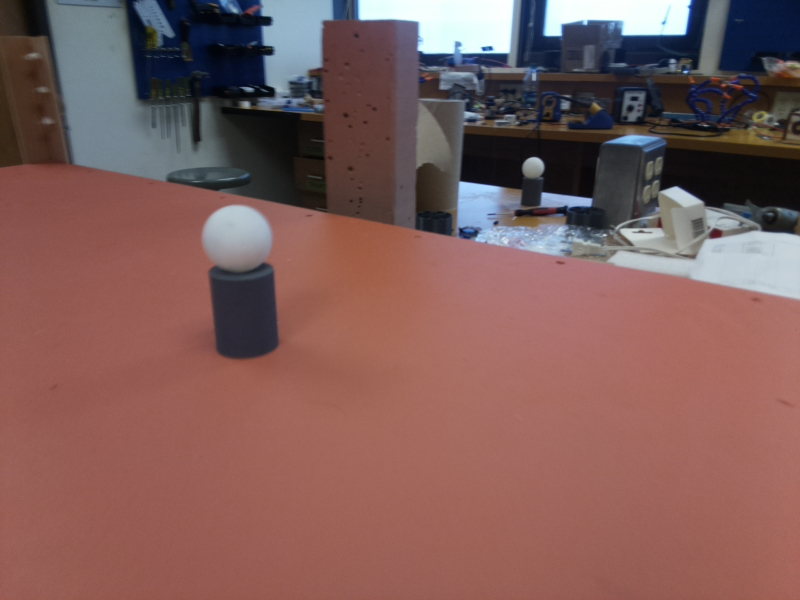corner: (6, 33, 59, 168)
obstacle: (208, 200, 281, 352)
